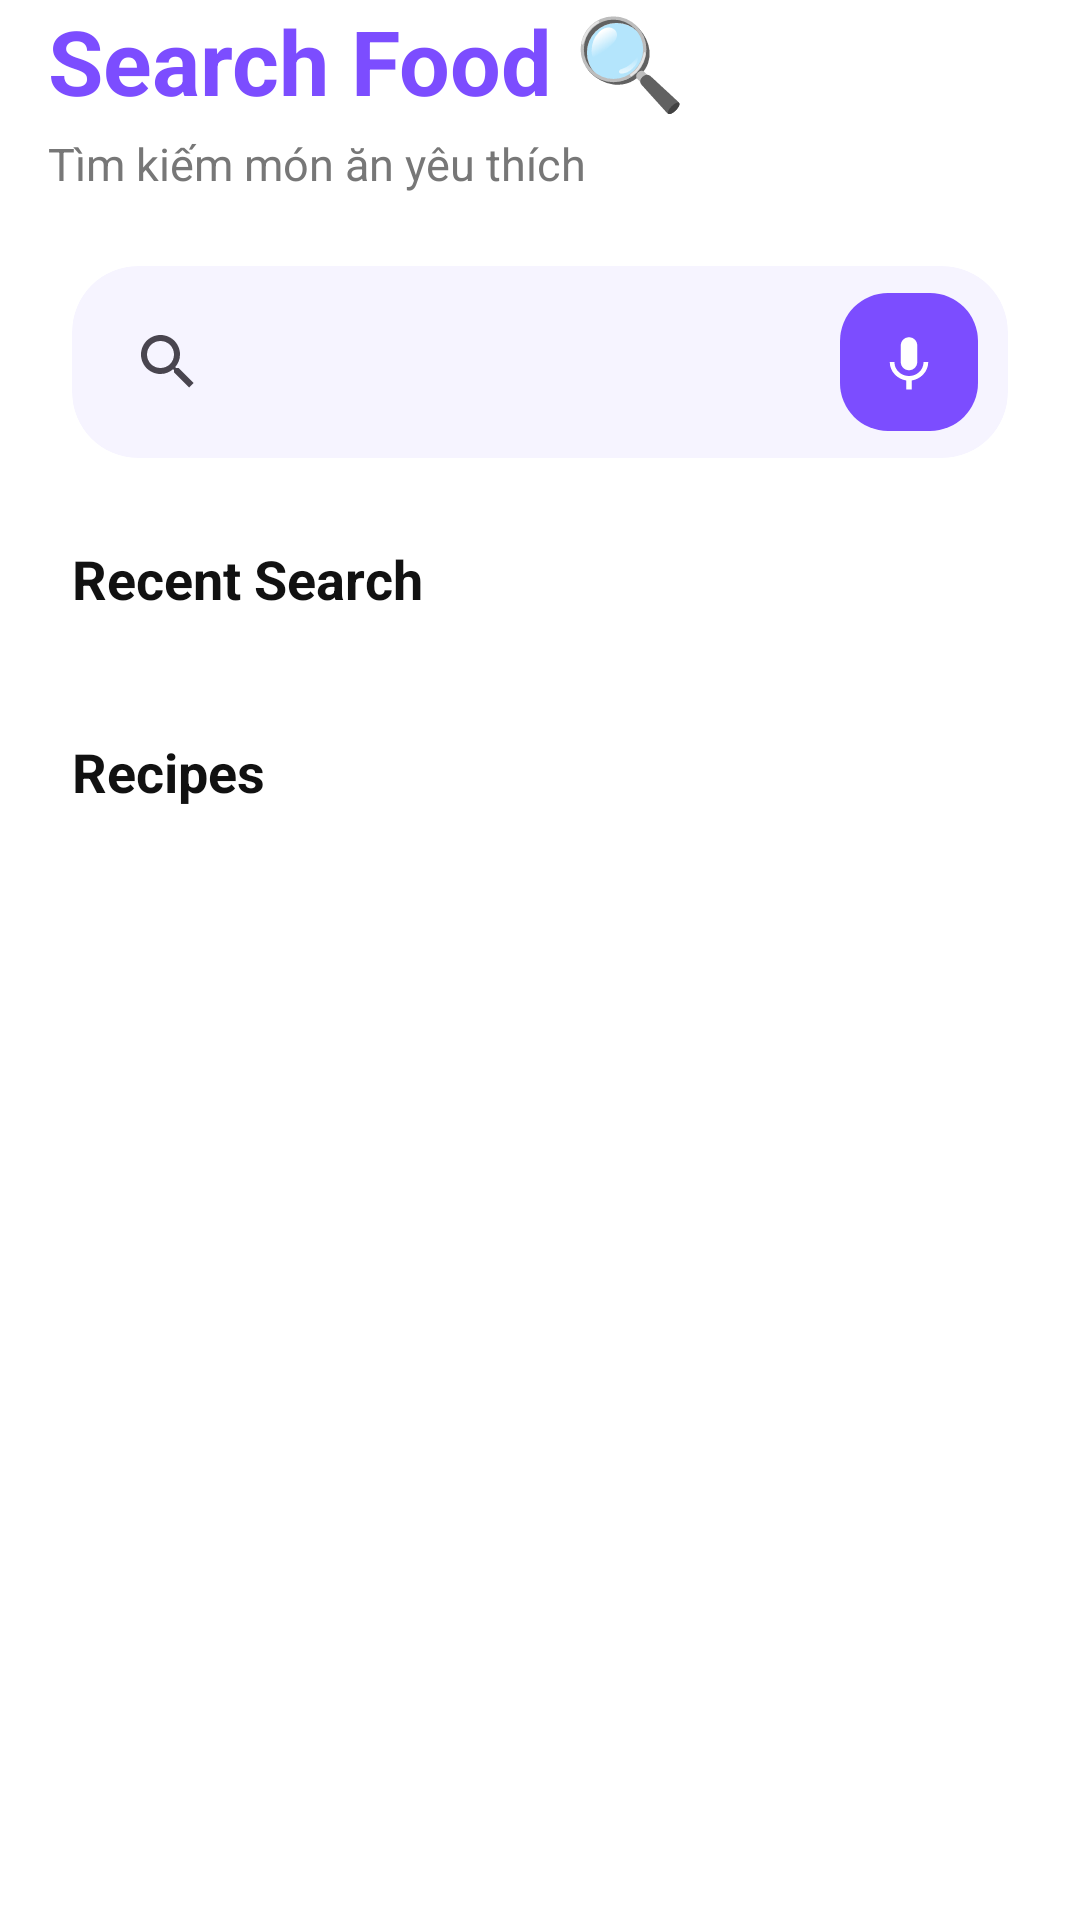

Named icons in this screenshot (1080px×1920px) and their bounding boxes, (x1, y1, x2, y2):
mic: (840, 293, 978, 431)
